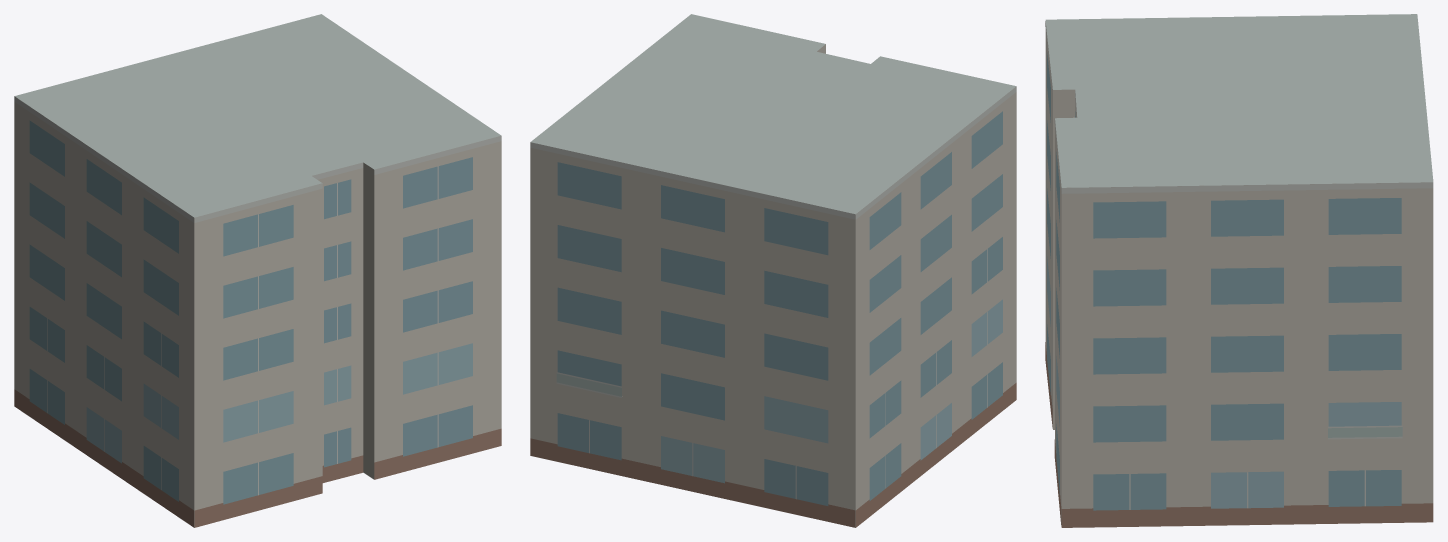
Rendered from survey-upis-32767990.glb.
3 renders of one model, left to right at view 1: azimuth 30°, elevation 25°; view 2: azimuth 150°, elevation 25°; view 3: azimuth 270°, elevation 25°, orthographic. The views are drawn at different scales.
Visible parts, largest first — view 1: survey-upis-32767990.tmp; view 2: survey-upis-32767990.tmp; view 3: survey-upis-32767990.tmp.
Boxes of the visible parts, <box> form: survey-upis-32767990.tmp: <box>14,14,501,527</box>; survey-upis-32767990.tmp: <box>530,14,1016,527</box>; survey-upis-32767990.tmp: <box>1045,14,1433,527</box>.
Bounding box in the file's own units: 15.25 × 13.9 × 14.39.
